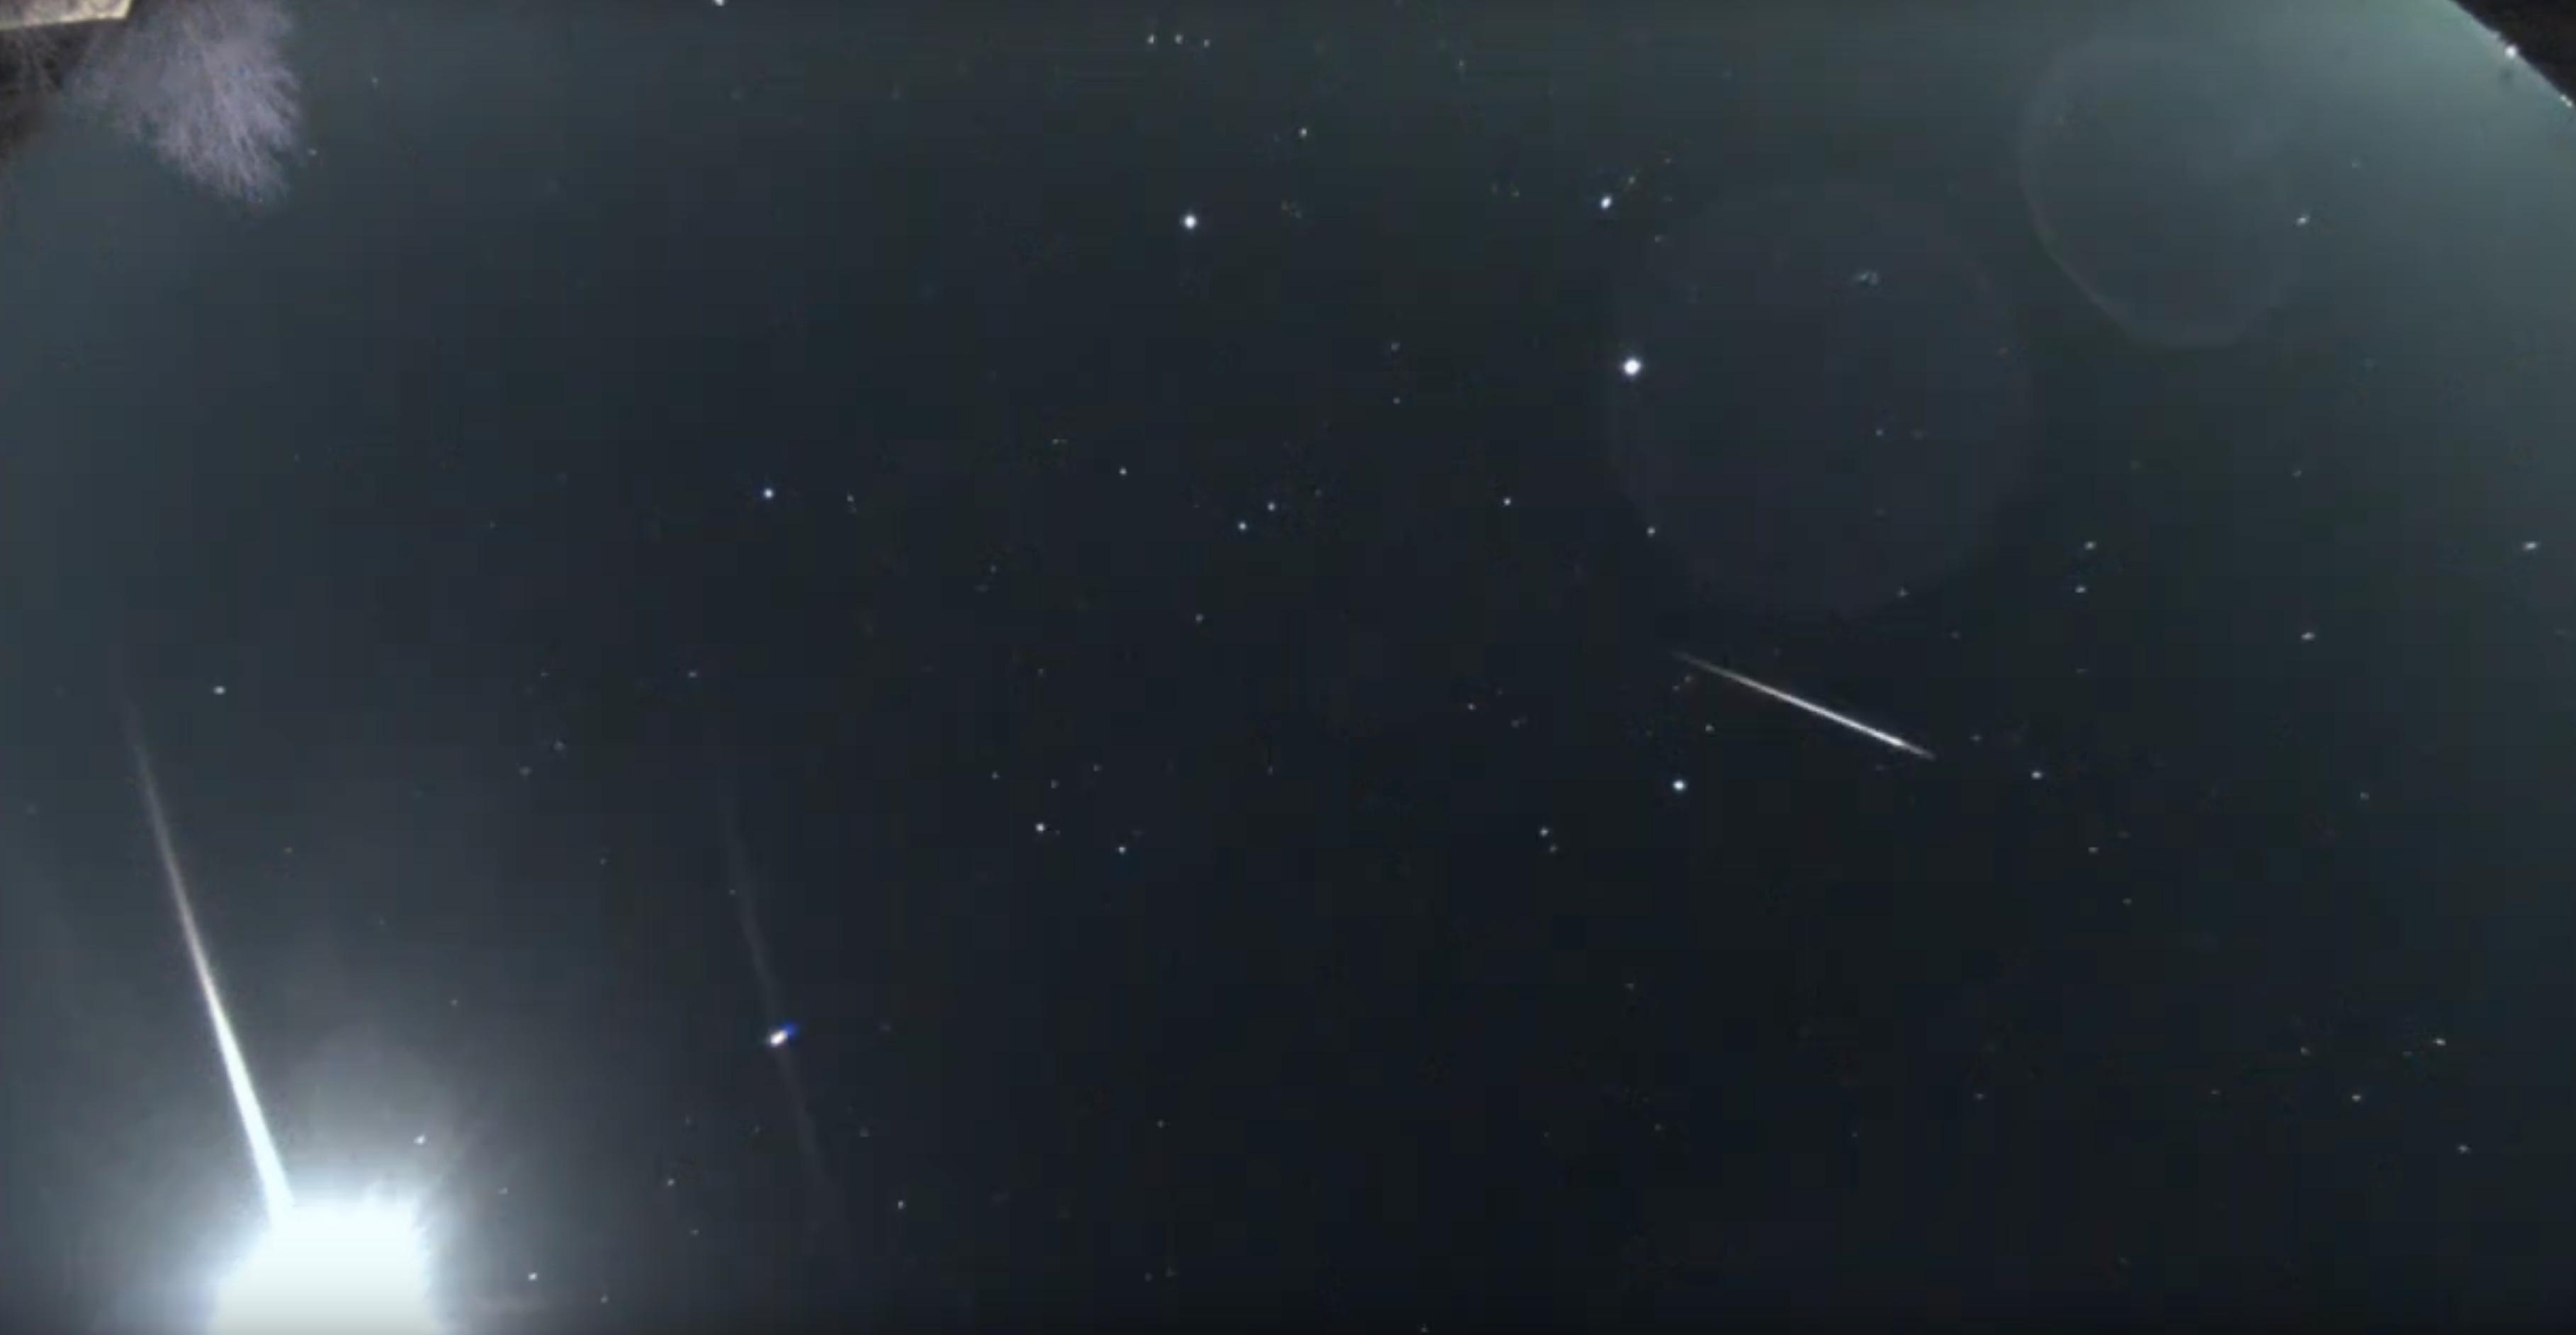meteorite: (1606, 639, 2047, 780)
